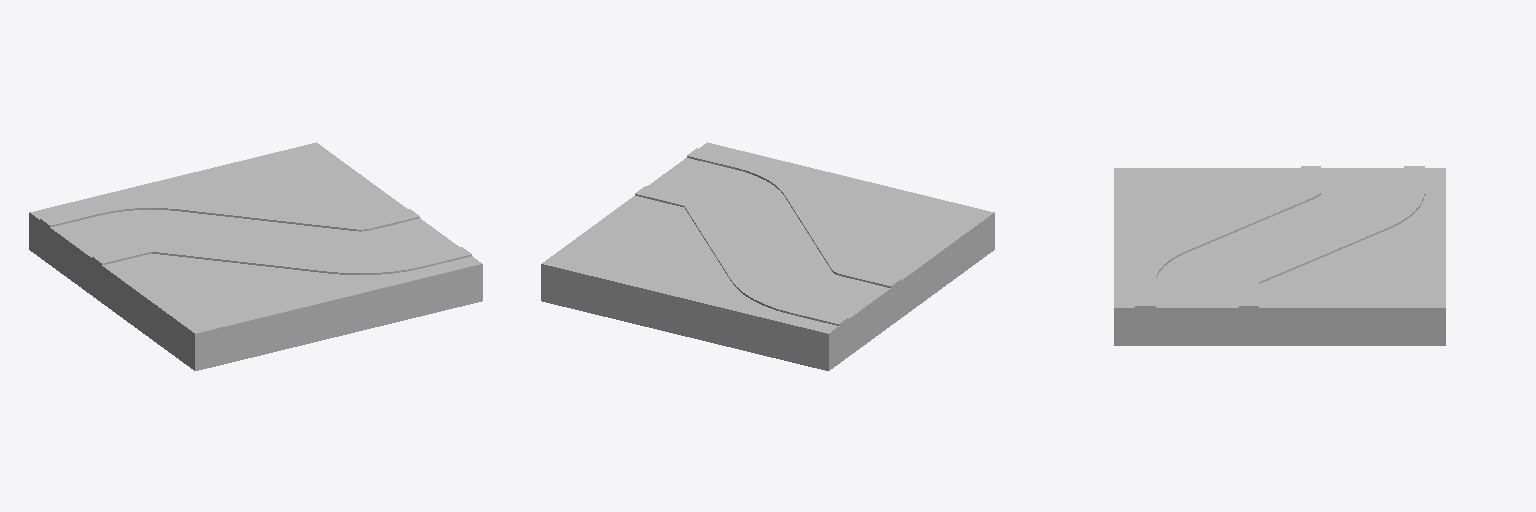
The model's file is track-left-right-large.obj.
3 views of the same model, side by side, from view 1: azimuth 30°, elevation 25°; view 2: azimuth 150°, elevation 25°; view 3: azimuth 270°, elevation 25° (orthographic).
Parts seen in each view (by area): view 1: track-left-right-large_Cube.053; view 2: track-left-right-large_Cube.053; view 3: track-left-right-large_Cube.053.
Part boxes in pixels (x1,y1,x2,y2): track-left-right-large_Cube.053: (29,142,482,370); track-left-right-large_Cube.053: (541,142,994,370); track-left-right-large_Cube.053: (1114,166,1445,345).
Size of the model in its own units: 16 by 2.1 by 16.